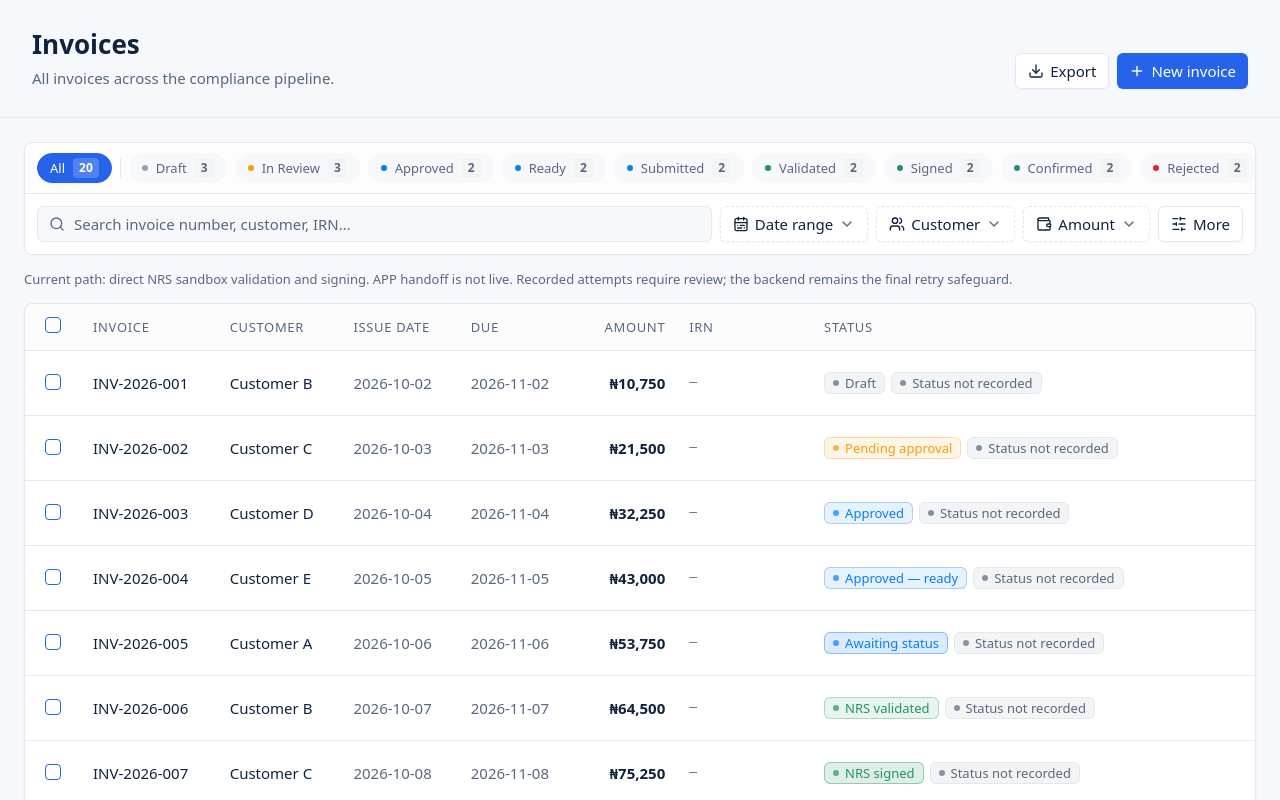
Test: Invoices Page Workflow › 3. CSV Export › calls downloadCsv for selected items when bulk Export is clicked
Later steps or results of the test are not shown.
Click the checkbox named "Select INV-2026-001" at (53, 382), box left=45, top=374, right=61, bottom=390
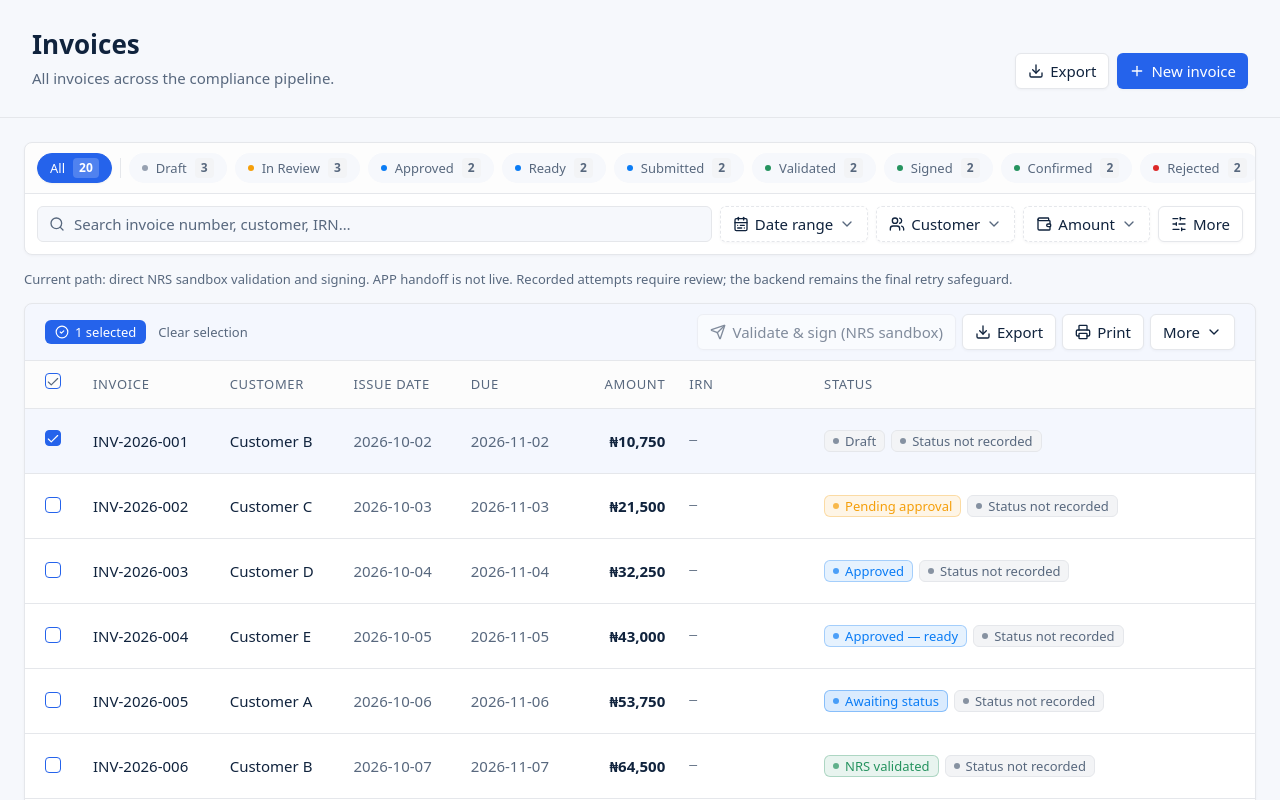
Check: the number of buttons "Export" is 2, box left=1015, top=52, right=1109, bottom=88; left=962, top=314, right=1056, bottom=350
